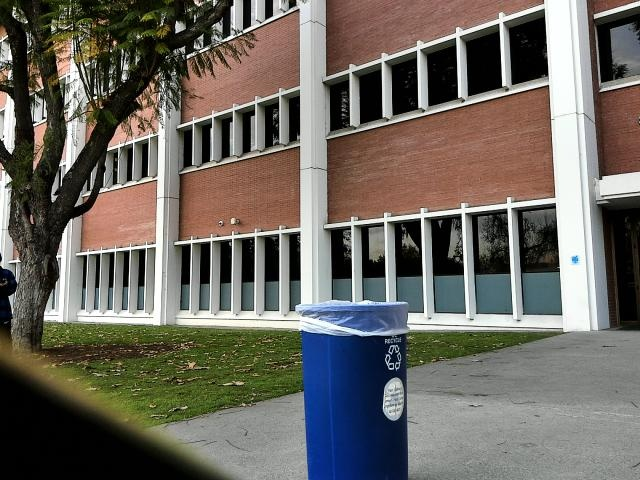trashcan_open: (290, 296, 413, 480)
